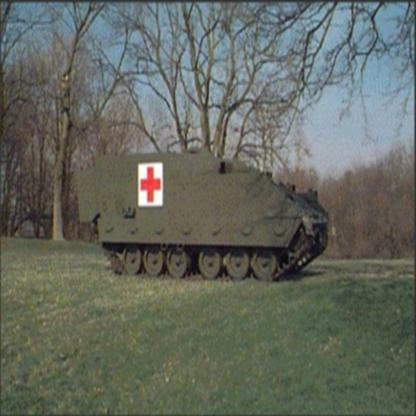Tank: (69, 142, 340, 295)
